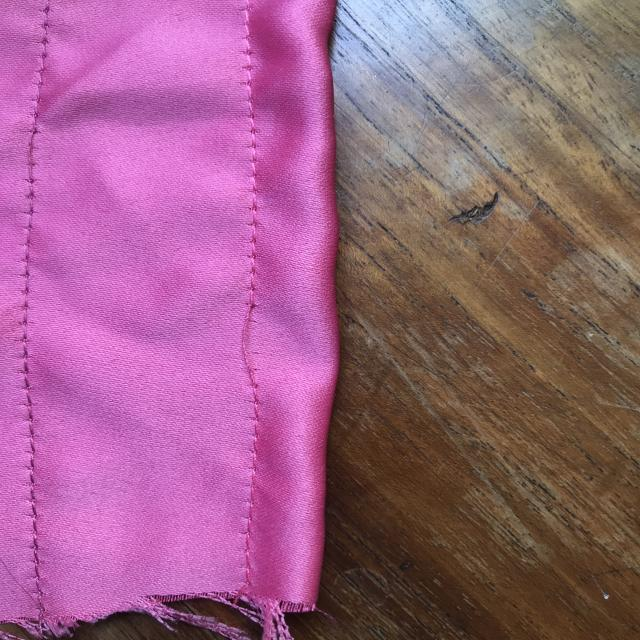skip: (231, 291, 274, 400)
